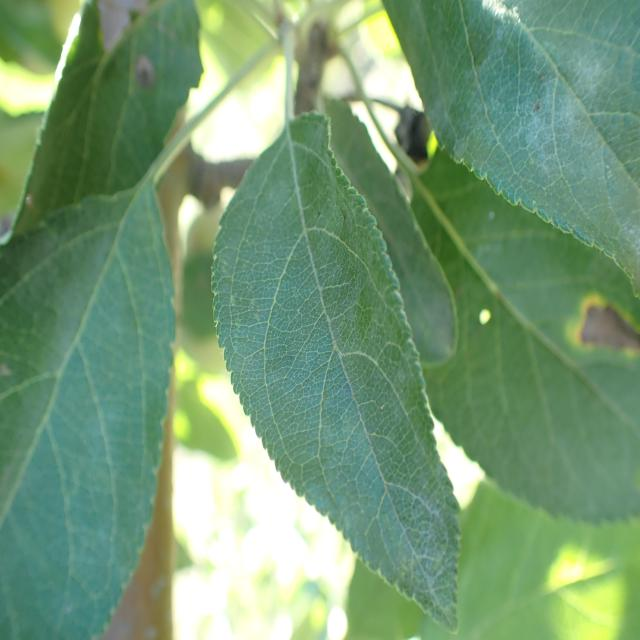Black Rot: (131, 48, 166, 108)
Powdery_mildew: (230, 133, 431, 514), (435, 0, 640, 264)
Rust: (555, 275, 640, 374)
